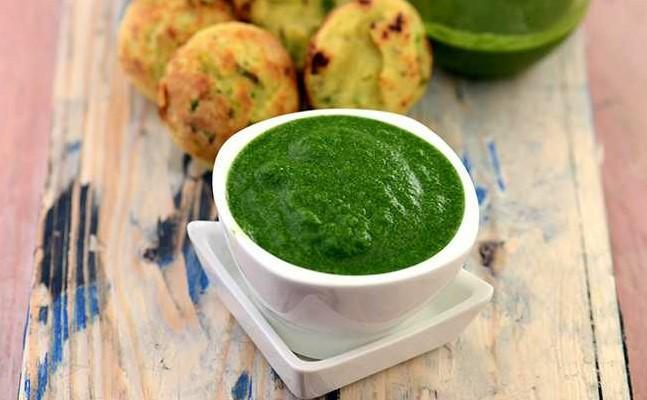GreenChutney: (227, 116, 464, 274)
